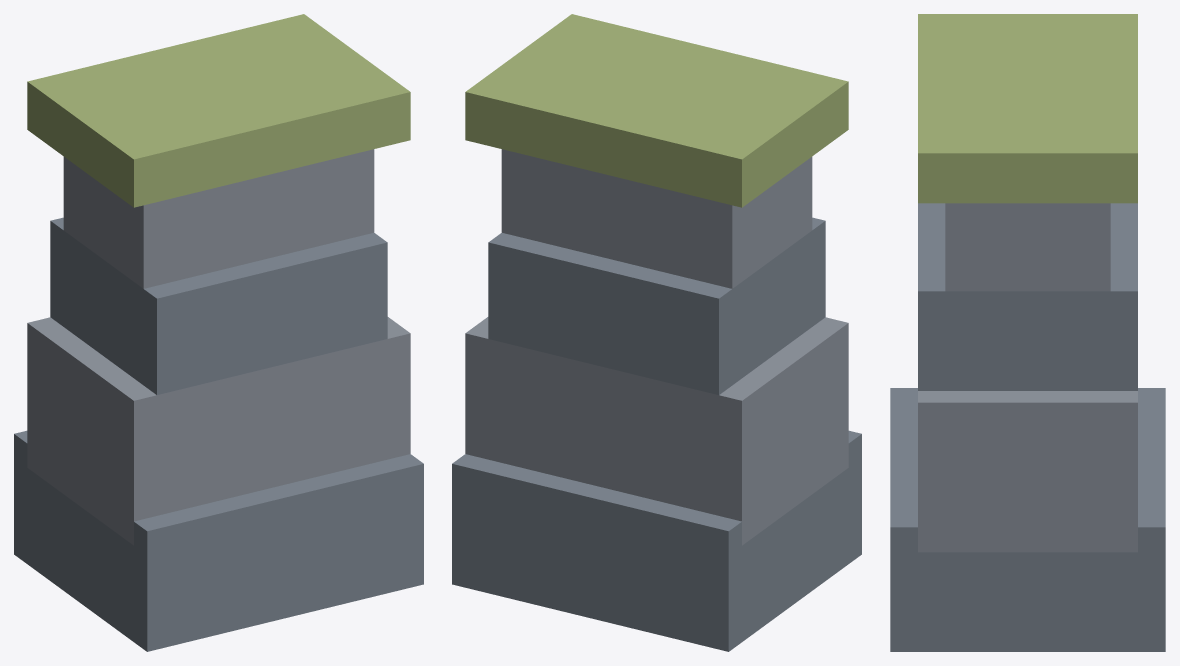
Rendered from reef_pillar.glb.
3 views of the same model, side by side, from view 1: azimuth 30°, elevation 25°; view 2: azimuth 150°, elevation 25°; view 3: azimuth 270°, elevation 25° (orthographic). The views are drawn at different scales.
Bounding box in the file's own units: 0.5 × 0.8333 × 0.4167.
